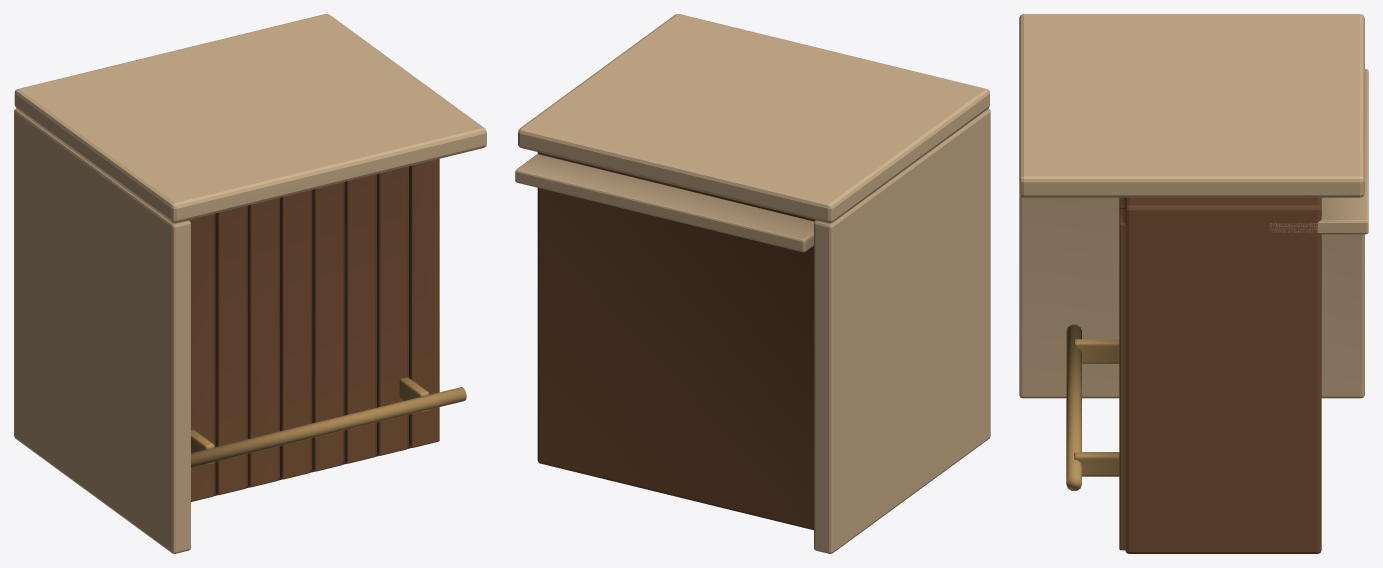
File: barEnd.glb
3 renders of one model, left to right at view 1: azimuth 30°, elevation 25°; view 2: azimuth 150°, elevation 25°; view 3: azimuth 270°, elevation 25°, orthographic. The views are drawn at different scales.
Parts seen in each view (by area): view 1: body; view 2: body; view 3: body.
Part boxes in pixels (bbox=[...]): body: bbox=[14, 14, 486, 553]; body: bbox=[515, 14, 990, 553]; body: bbox=[1019, 14, 1368, 553].
Bounding box in the file's own units: 1 × 1.06 × 0.89.
